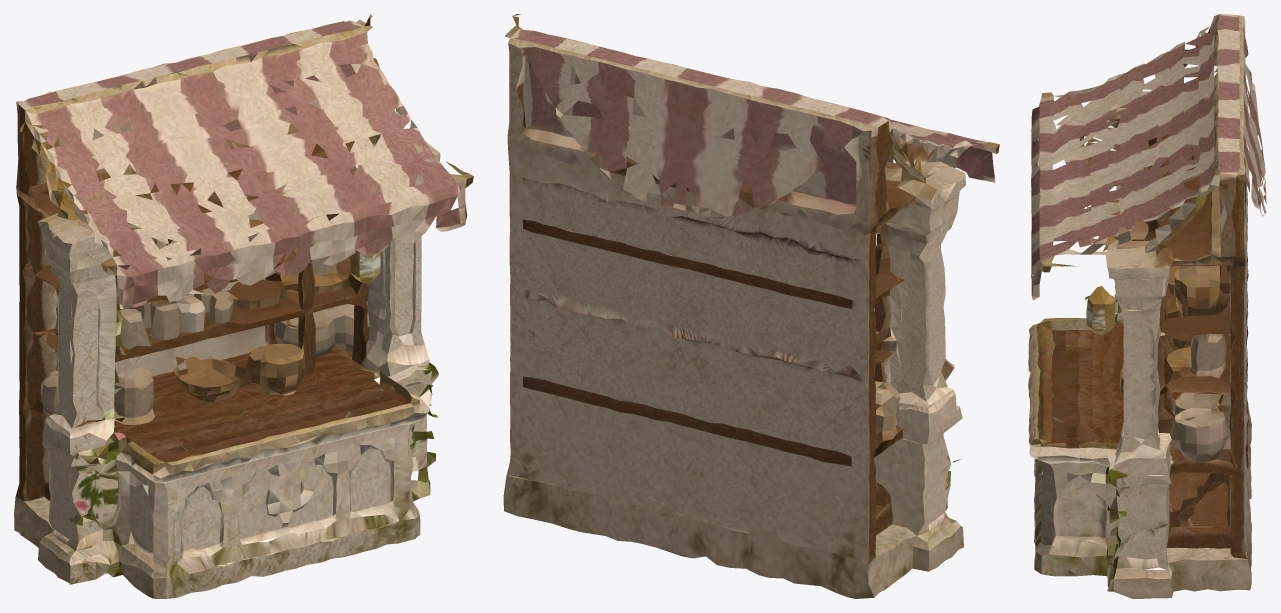
File: puesto.glb
3 renders of one model, left to right at view 1: azimuth 30°, elevation 25°; view 2: azimuth 150°, elevation 25°; view 3: azimuth 270°, elevation 25°, orthographic. The views are drawn at different scales.
Parts seen in each view (by area): view 1: mesh_0; view 2: mesh_0; view 3: mesh_0.
Boxes of the visible parts, left/top/right/bottom form: mesh_0: left=14, top=14, right=473, bottom=598; mesh_0: left=503, top=14, right=999, bottom=598; mesh_0: left=1028, top=14, right=1266, bottom=598.
Bounding box in the file's own units: 1.66 × 1.88 × 0.9422.
1 material, 1 textured.
